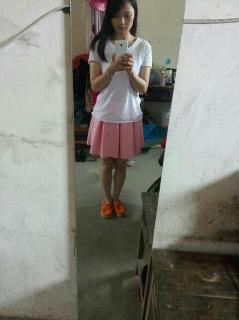short sleeve top: (88, 31, 153, 123)
skirt: (87, 108, 145, 159)
